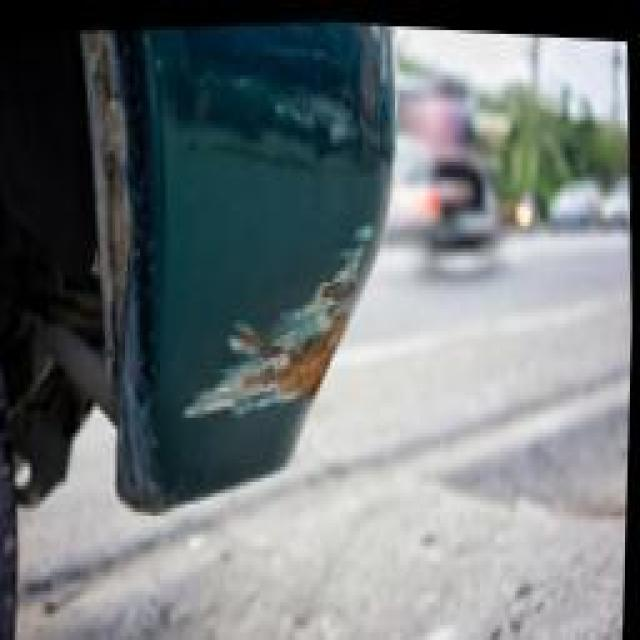Bumper: (152, 49, 395, 509)
